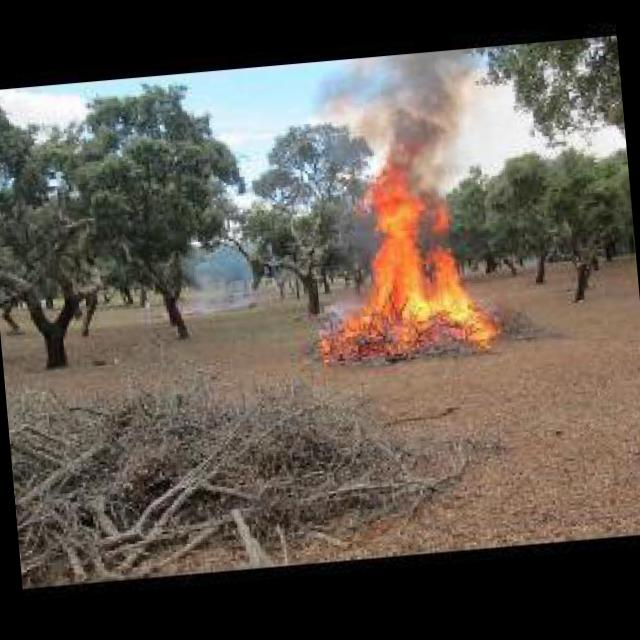fire: (305, 162, 496, 358)
smoke: (344, 46, 480, 196)
